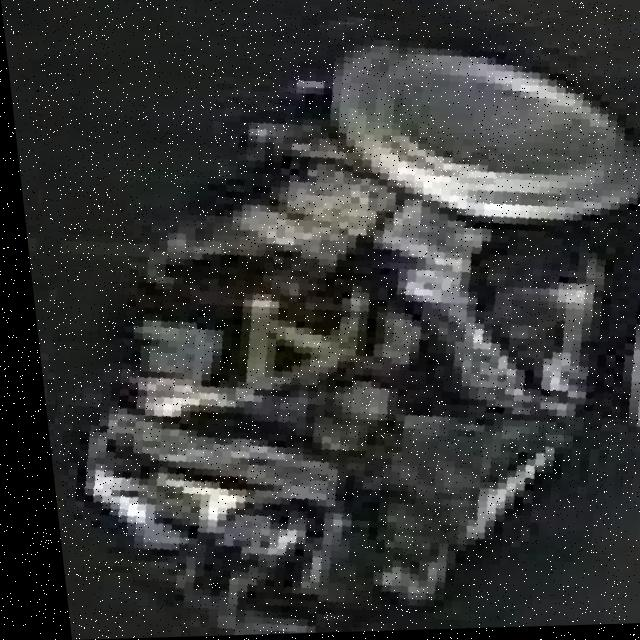can: (46, 25, 640, 637)
